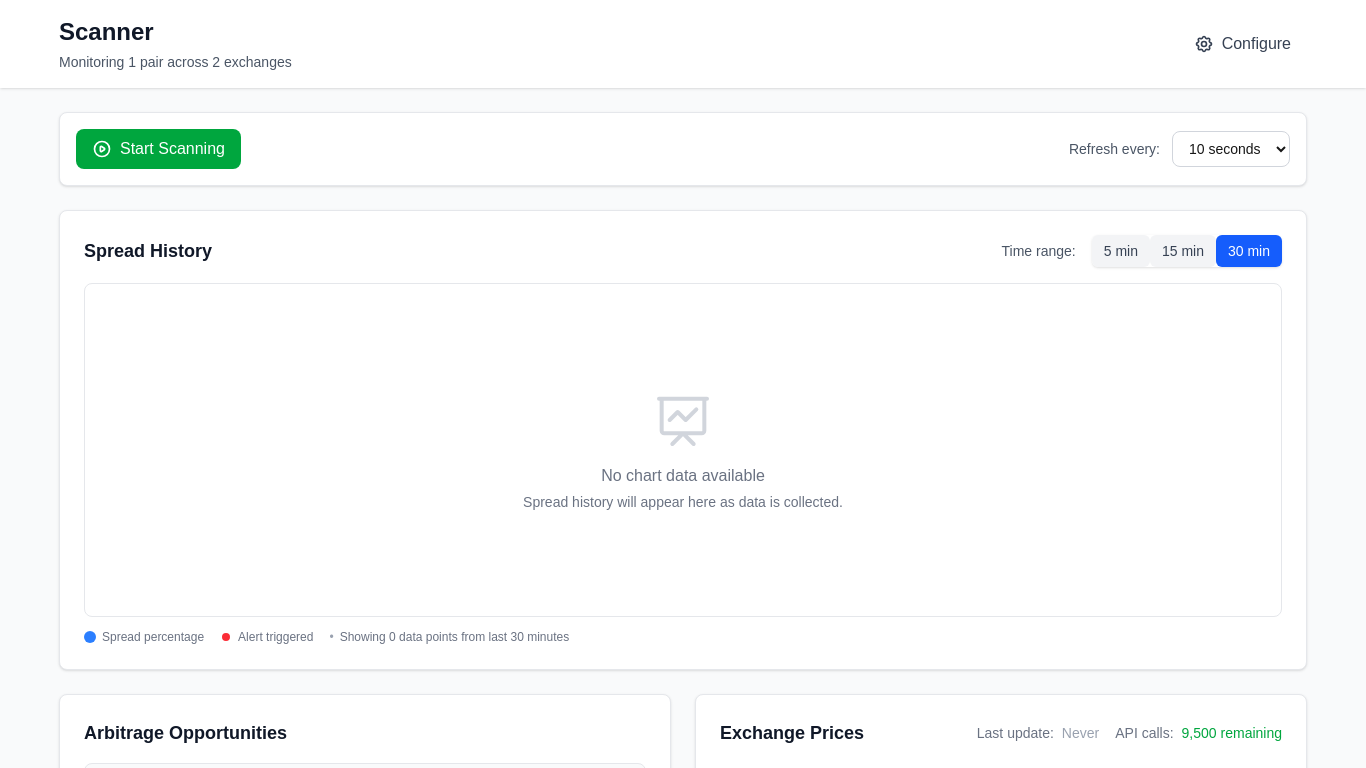
Scenario: ScannerPage Integration › Error Handling › should display error when price fetching fails
# Start scanning
Click the button "Start Scanning": [158, 149] box left=76, top=129, right=241, bottom=169
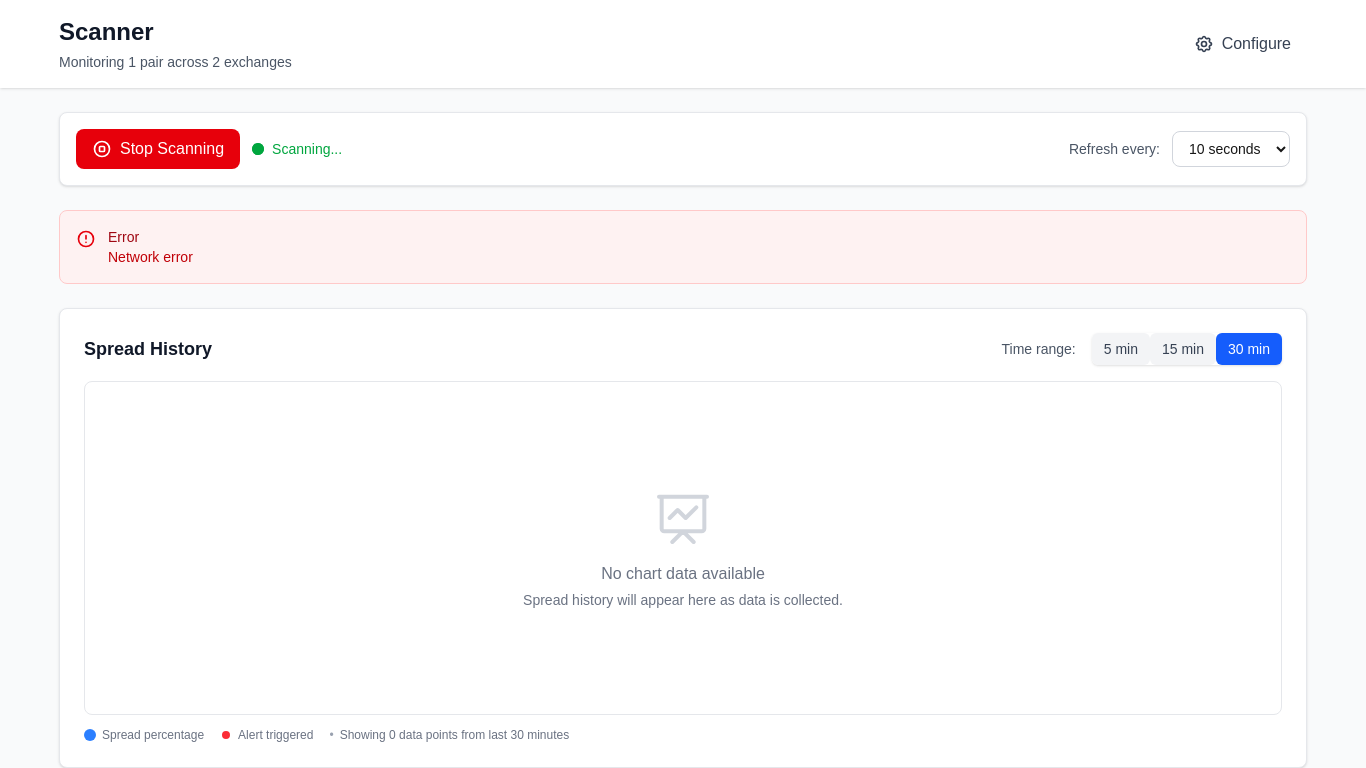
expect the text "Network error" is shown: met, box left=108, top=247, right=193, bottom=267
